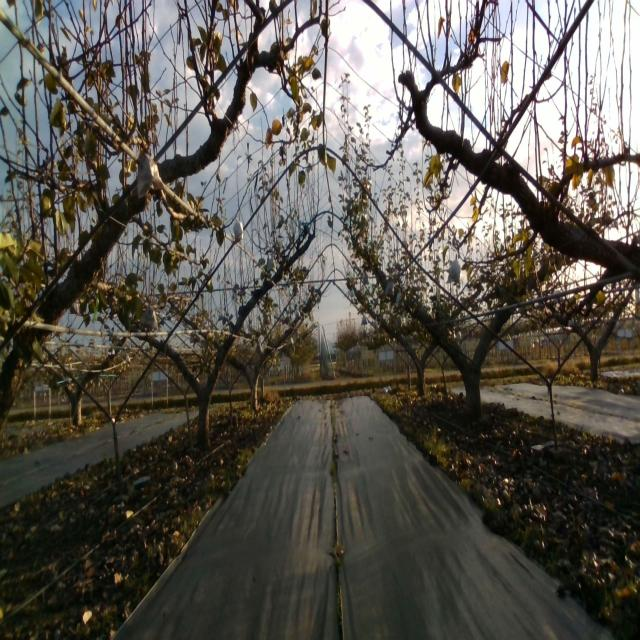pearbags: (137, 150, 165, 198), (446, 255, 461, 285), (233, 217, 244, 242), (266, 251, 277, 274)
